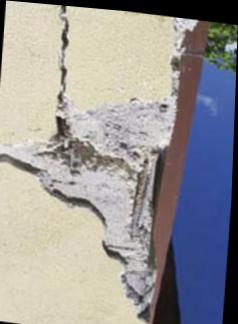crack: (58, 4, 69, 101)
damage: (0, 92, 174, 317)
